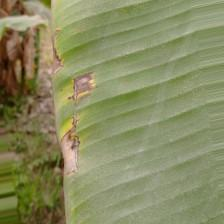cordana: (51, 0, 224, 224)
